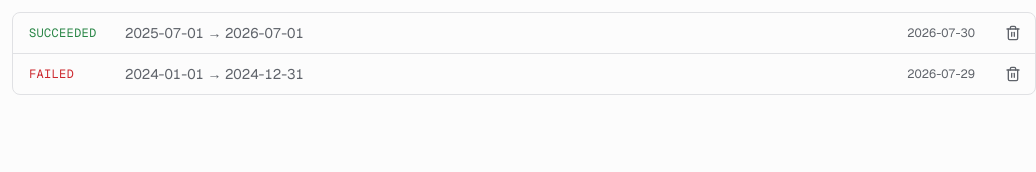
Test: BacktestList delete › asks before deleting — one click does not destroy the run
Click the button named "delete backtest" at coordinates (1013, 33), box [999, 19, 1027, 47]
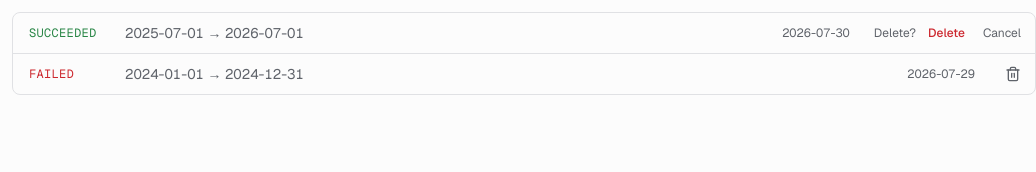
Expected: the text "Delete?" is shown, [874, 25, 916, 41]
